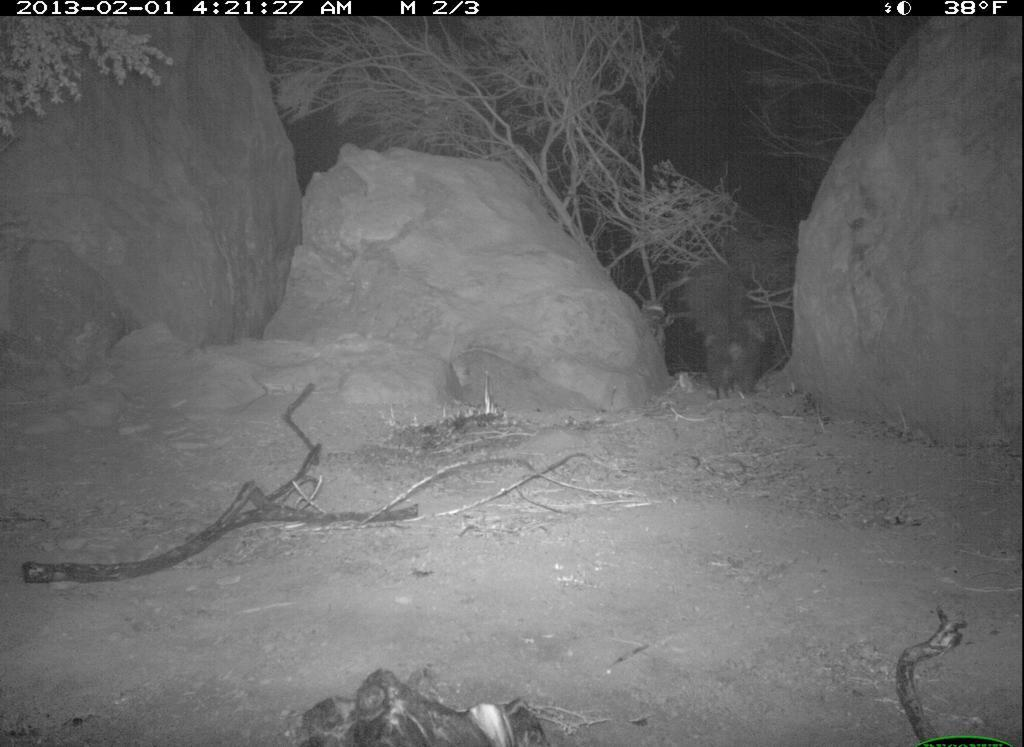skunk: (675, 248, 781, 415)
